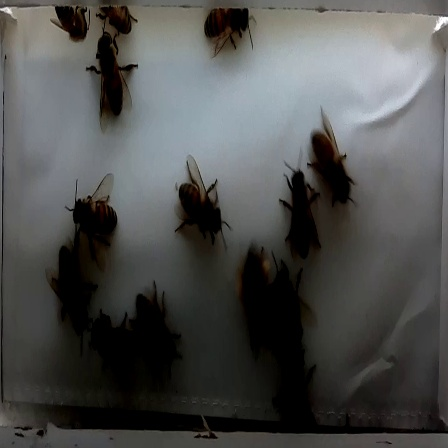bee: (156, 158, 240, 251), (78, 25, 143, 135), (267, 156, 326, 259), (49, 178, 131, 251), (300, 117, 363, 211), (262, 271, 321, 368), (127, 285, 193, 371), (42, 236, 99, 332), (230, 248, 279, 350), (81, 315, 134, 394), (197, 4, 266, 63)
